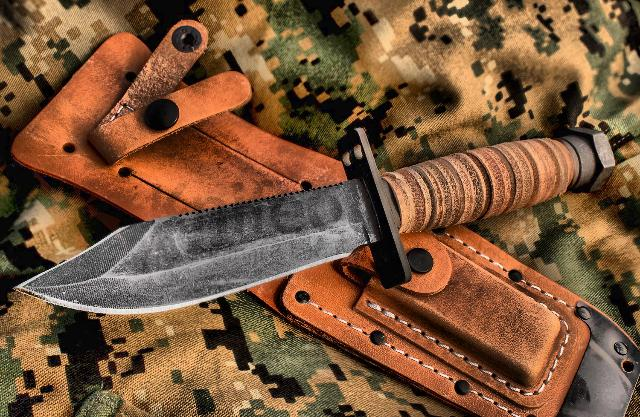knife: (8, 171, 378, 327)
